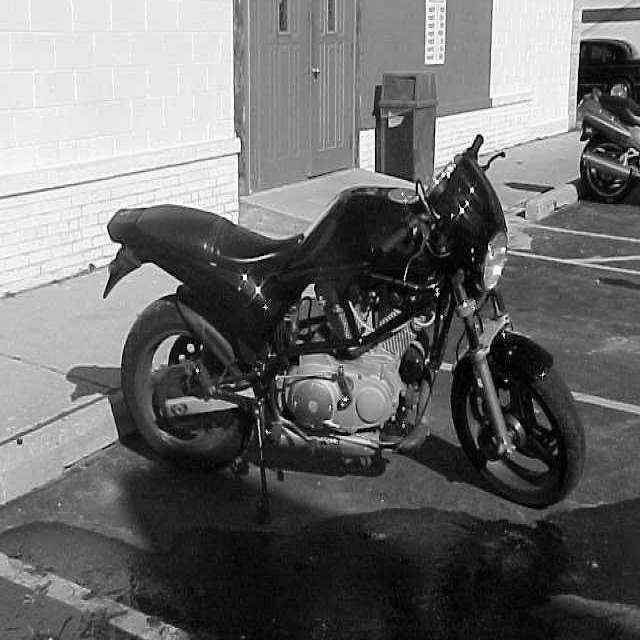Motorcycle: (106, 134, 586, 506)
